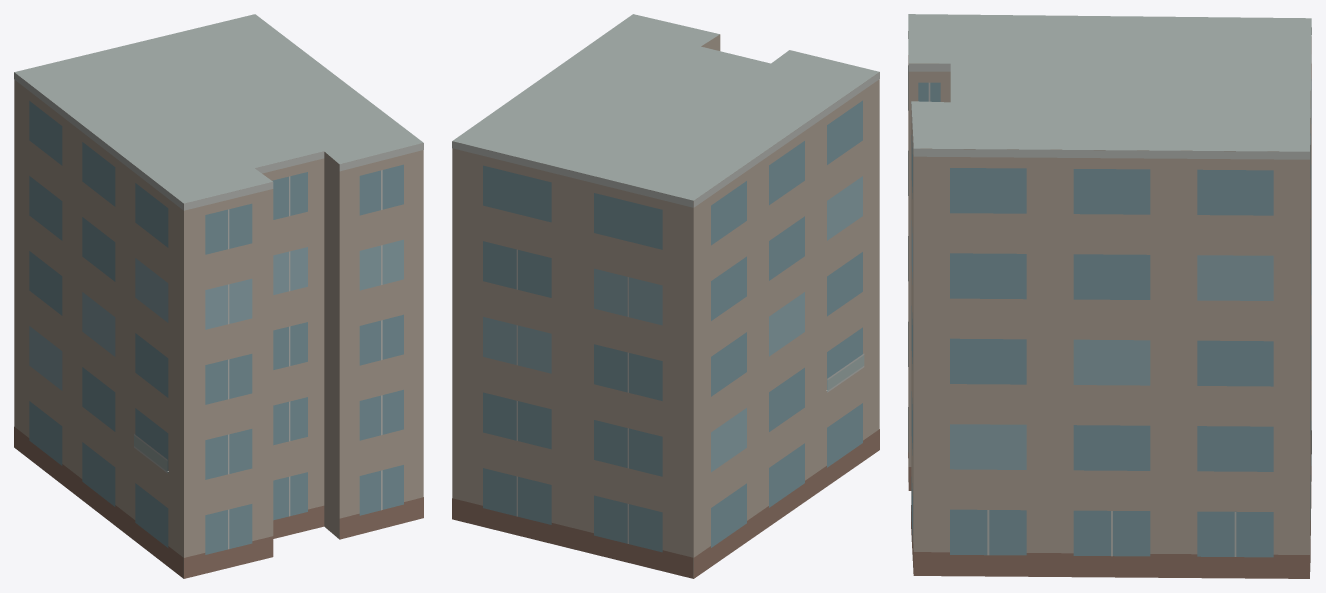
The model's file is survey-upis-32997434.glb.
3 renders of one model, left to right at view 1: azimuth 30°, elevation 25°; view 2: azimuth 150°, elevation 25°; view 3: azimuth 270°, elevation 25°, orthographic. The views are drawn at different scales.
Visible parts, largest first — view 1: survey-upis-32997434.tmp; view 2: survey-upis-32997434.tmp; view 3: survey-upis-32997434.tmp.
Part boxes in pixels (box(x1,y1,x2,y2)): survey-upis-32997434.tmp: box(14, 14, 423, 578); survey-upis-32997434.tmp: box(452, 14, 879, 578); survey-upis-32997434.tmp: box(908, 14, 1311, 578).
Bounding box in the file's own units: 8.94 × 12.9 × 11.05.
